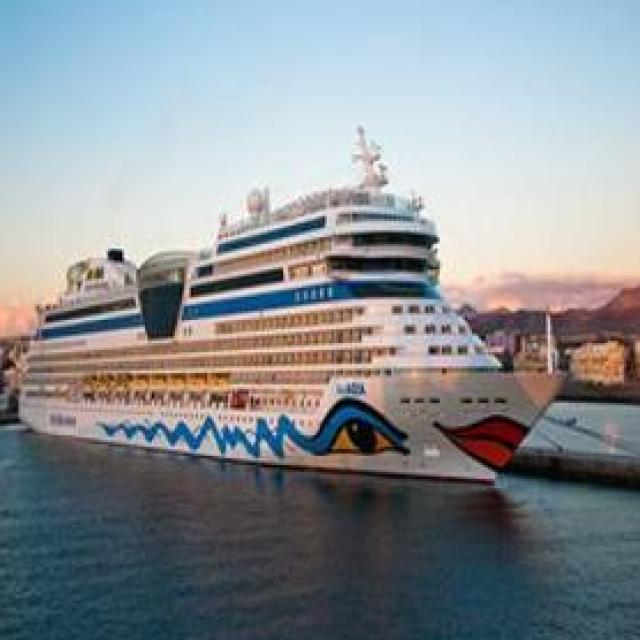passenger ship: (8, 173, 561, 480)
